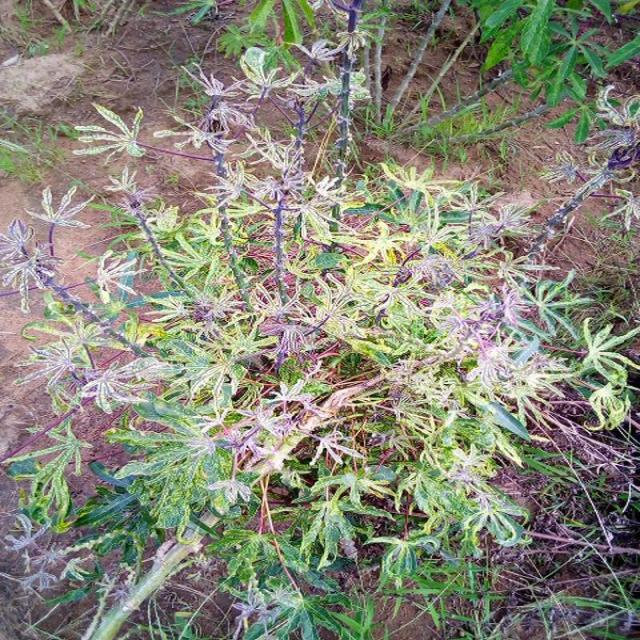cassava leaf: (1, 3, 638, 637)
